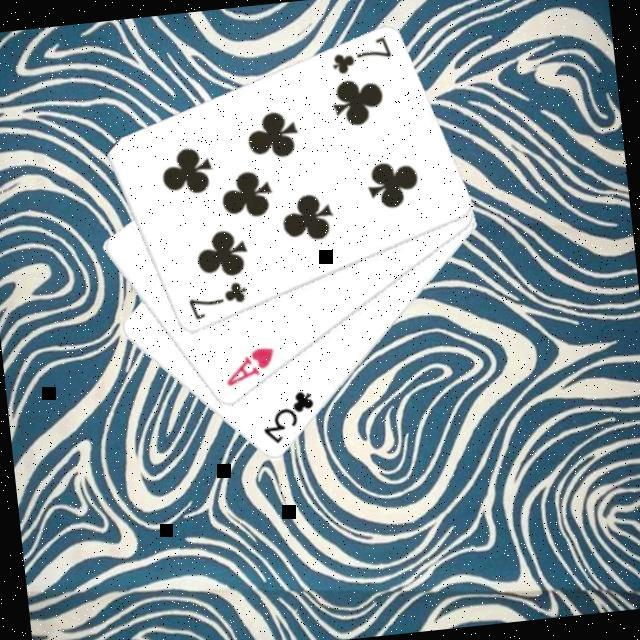3C: (257, 388, 323, 450)
7C: (328, 34, 398, 81), (185, 279, 254, 326)
AH: (222, 344, 282, 392)
